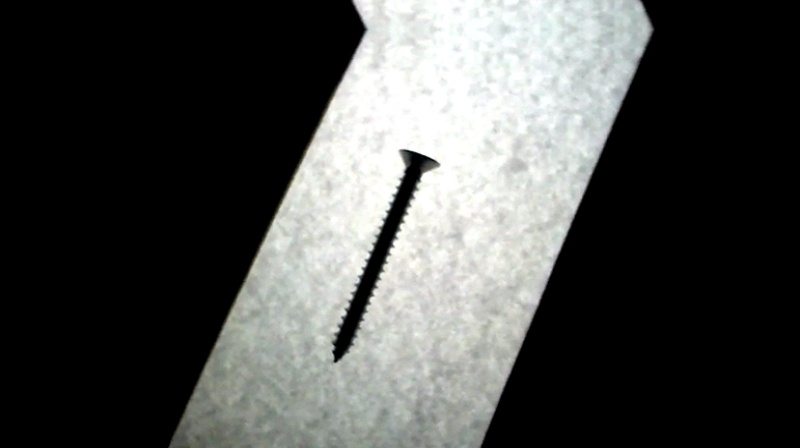S002: (329, 146, 444, 365)
